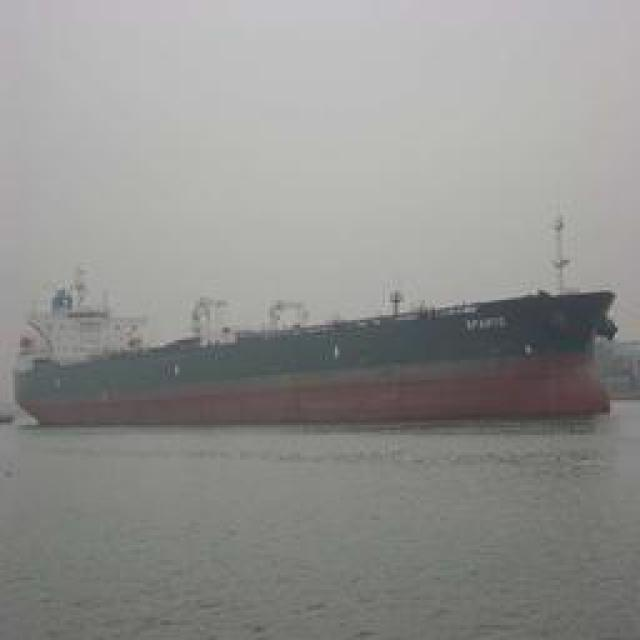Ship: (25, 294, 615, 384)
